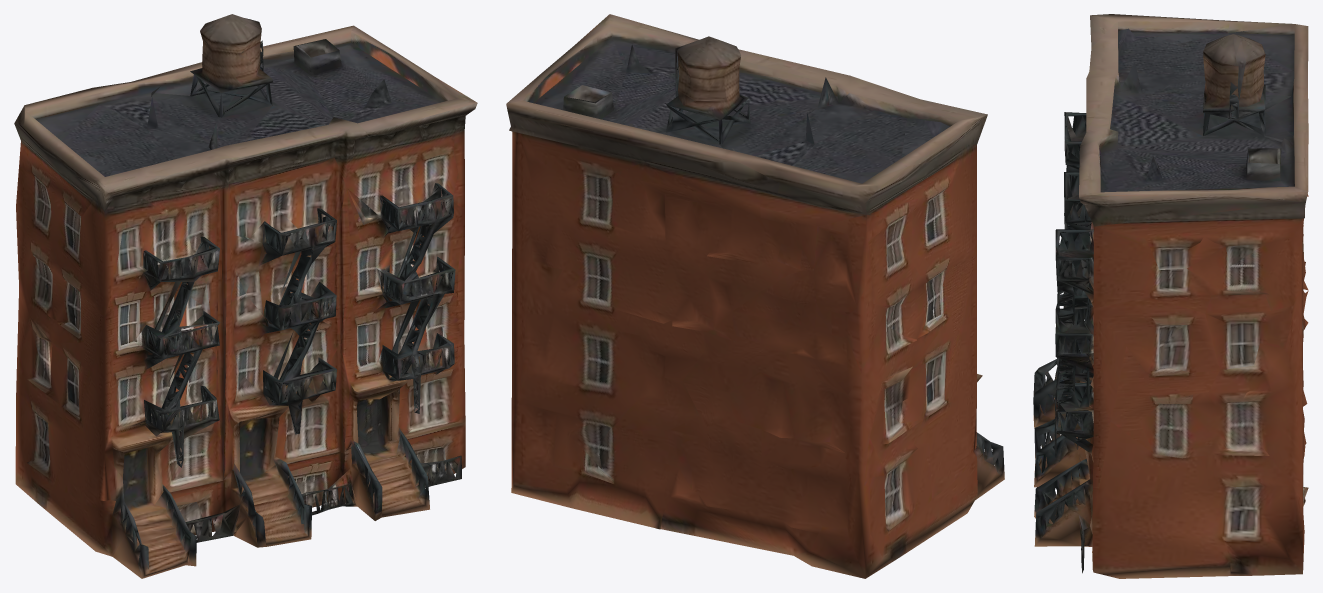
The model's file is city-brownstone.glb.
The picture shows the model from 3 angles, left to right: view 1: azimuth 30°, elevation 25°; view 2: azimuth 150°, elevation 25°; view 3: azimuth 270°, elevation 25°; orthographic projection. The views are drawn at different scales.
Visible parts, largest first — view 1: city-brownstone; view 2: city-brownstone; view 3: city-brownstone.
Part boxes in pixels (left/top/right/bottom): city-brownstone: left=14, top=14, right=477, bottom=578; city-brownstone: left=506, top=14, right=1004, bottom=578; city-brownstone: left=1033, top=14, right=1308, bottom=578.
Size of the model in its own units: 13.66 by 16 by 8.63.
Materials: 1 (1 with a texture image).
